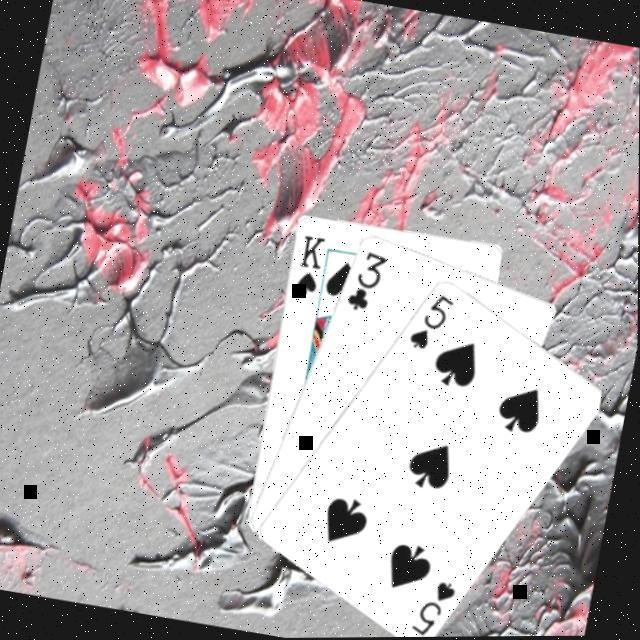3C: (342, 246, 391, 318)
5S: (405, 287, 459, 358), (407, 573, 461, 637)
KS: (290, 230, 329, 300)
